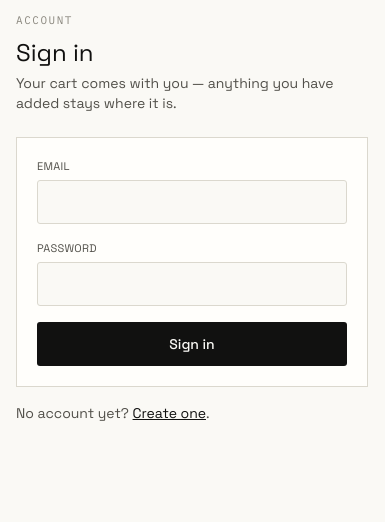
Scenario: signing in › shows the server's incurious message and keeps no token
The image size is (385, 522).
In the field labelled "Email": (192, 202) [37,180,347,224], type "shopper@example.test"
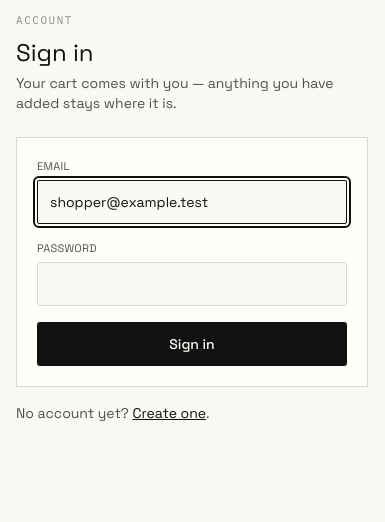
In the password field labelled "Password": (192, 284) [37,262,347,306], type "wrong-password-here"
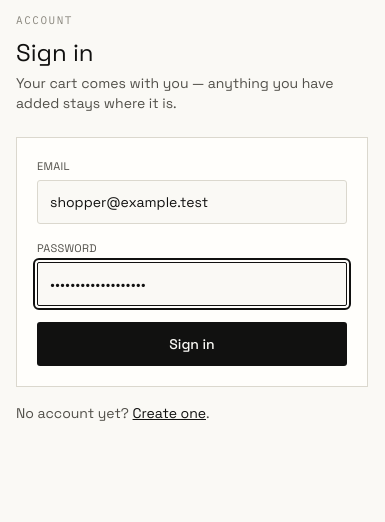
Click the button "Sign in": click(192, 344) [37,322,347,366]
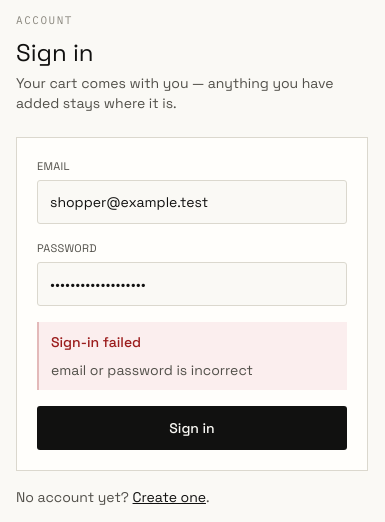
Now the text "email or password is incorrect" is shown, box [51,360,253,378]
